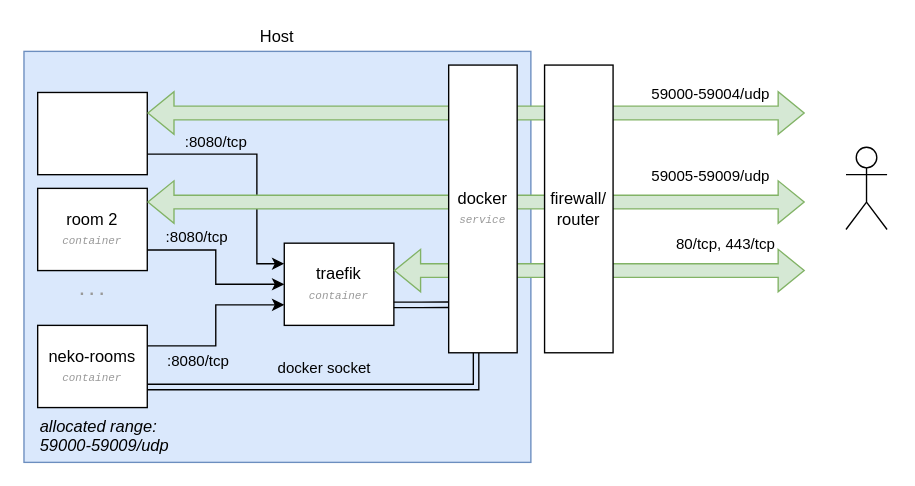
The diagram is 915 pixels wide and 486 high, and some of its shapes have lost their labels. Here are the shapes that lost their labels. From the top down, the centre of each, then its label:
(91,133): room 1 container
(866,187): Clients
